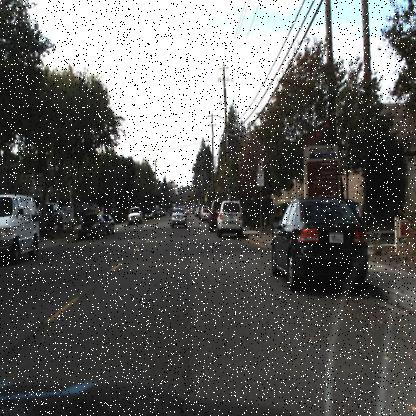car: (269, 196, 370, 289), (0, 193, 41, 265), (216, 198, 244, 236), (75, 210, 105, 243), (75, 209, 104, 242), (37, 198, 64, 233), (348, 198, 367, 232), (206, 194, 220, 236), (170, 206, 188, 232), (127, 201, 144, 228), (168, 207, 189, 228), (102, 211, 115, 239), (200, 206, 212, 222)
